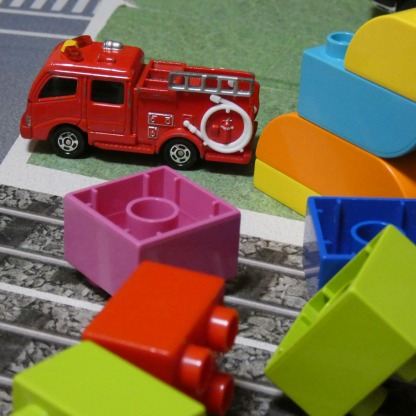car: (20, 33, 255, 177)
